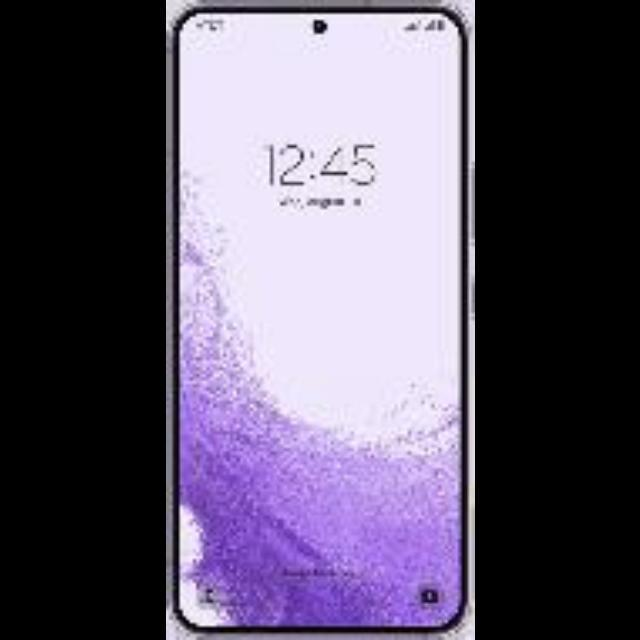PhoneUse: (173, 4, 472, 636)
